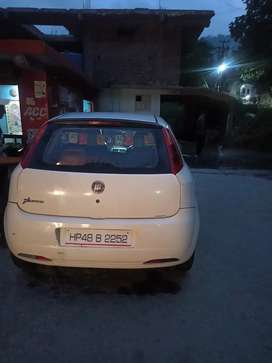HP48B2252: (60, 227, 132, 246)
